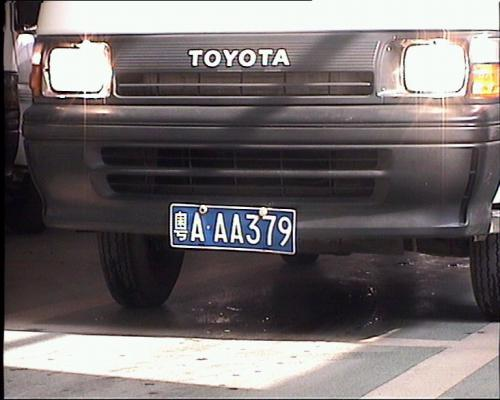Carplate: (159, 197, 303, 259)
